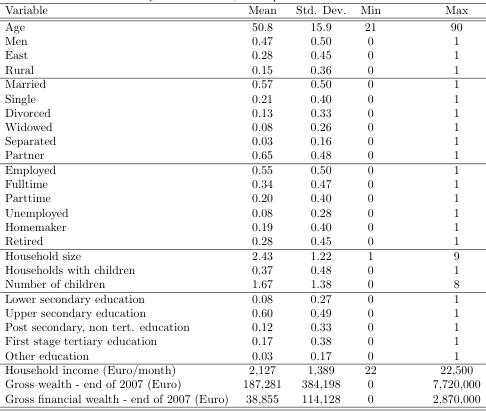table: (3, 3, 479, 404)
table column: (3, 3, 234, 404), (405, 3, 479, 404), (287, 3, 352, 404), (234, 3, 287, 404), (352, 3, 405, 404)
table column header: (3, 3, 479, 18)
table row: (3, 18, 479, 34), (3, 3, 479, 18), (3, 62, 479, 77), (3, 119, 479, 134), (3, 162, 479, 177), (3, 233, 479, 248), (3, 262, 479, 277), (3, 305, 479, 320), (3, 362, 479, 377), (3, 34, 479, 48), (3, 48, 479, 62), (3, 77, 479, 91), (3, 91, 479, 105), (3, 105, 479, 119), (3, 134, 479, 148), (3, 148, 479, 162), (3, 177, 479, 191), (3, 191, 479, 205), (3, 205, 479, 219), (3, 219, 479, 233), (3, 248, 479, 262), (3, 277, 479, 291), (3, 291, 479, 305), (3, 320, 479, 334), (3, 334, 479, 348), (3, 348, 479, 362), (3, 377, 479, 391), (3, 391, 479, 404)
